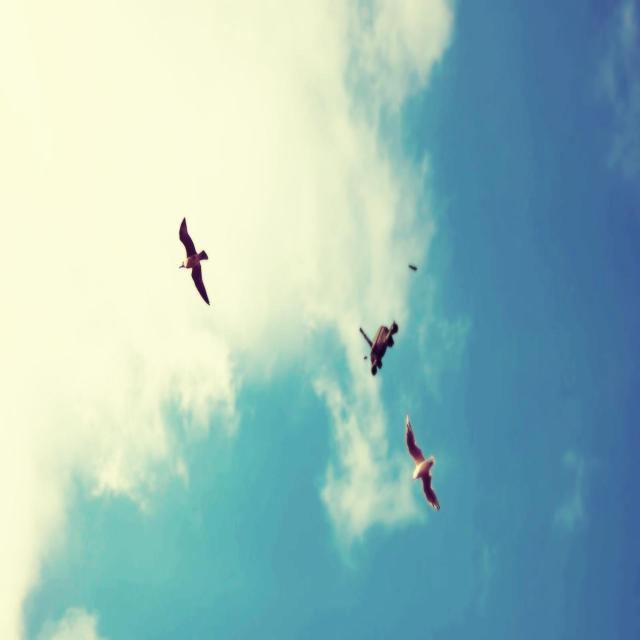airplane: (359, 319, 398, 376)
